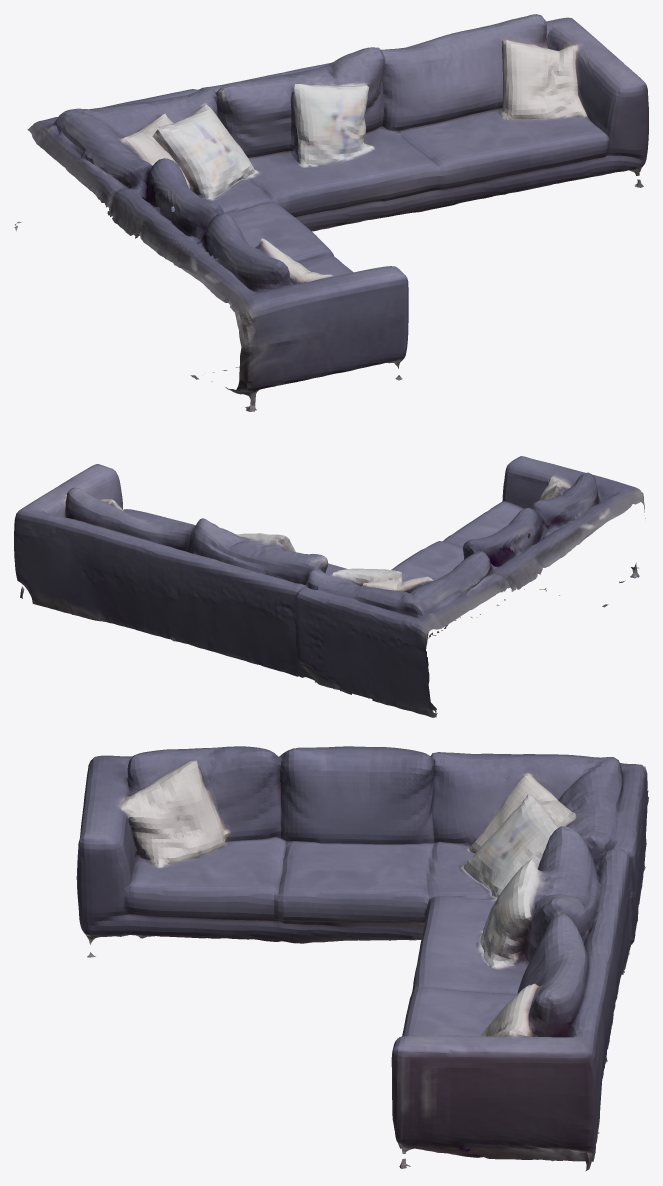
3 views of the same model, one above another, from view 1: azimuth 30°, elevation 25°; view 2: azimuth 150°, elevation 25°; view 3: azimuth 270°, elevation 25° (orthographic). The views are drawn at different scales.
Parts seen in each view (by area): view 1: world; view 2: world; view 3: world.
Part boxes in pixels (<box>): world: <box>14,14,648,411</box>; world: <box>14,456,645,717</box>; world: <box>76,746,648,1171</box>.
Size of the model in its own units: 1 by 0.2378 by 0.8726.
